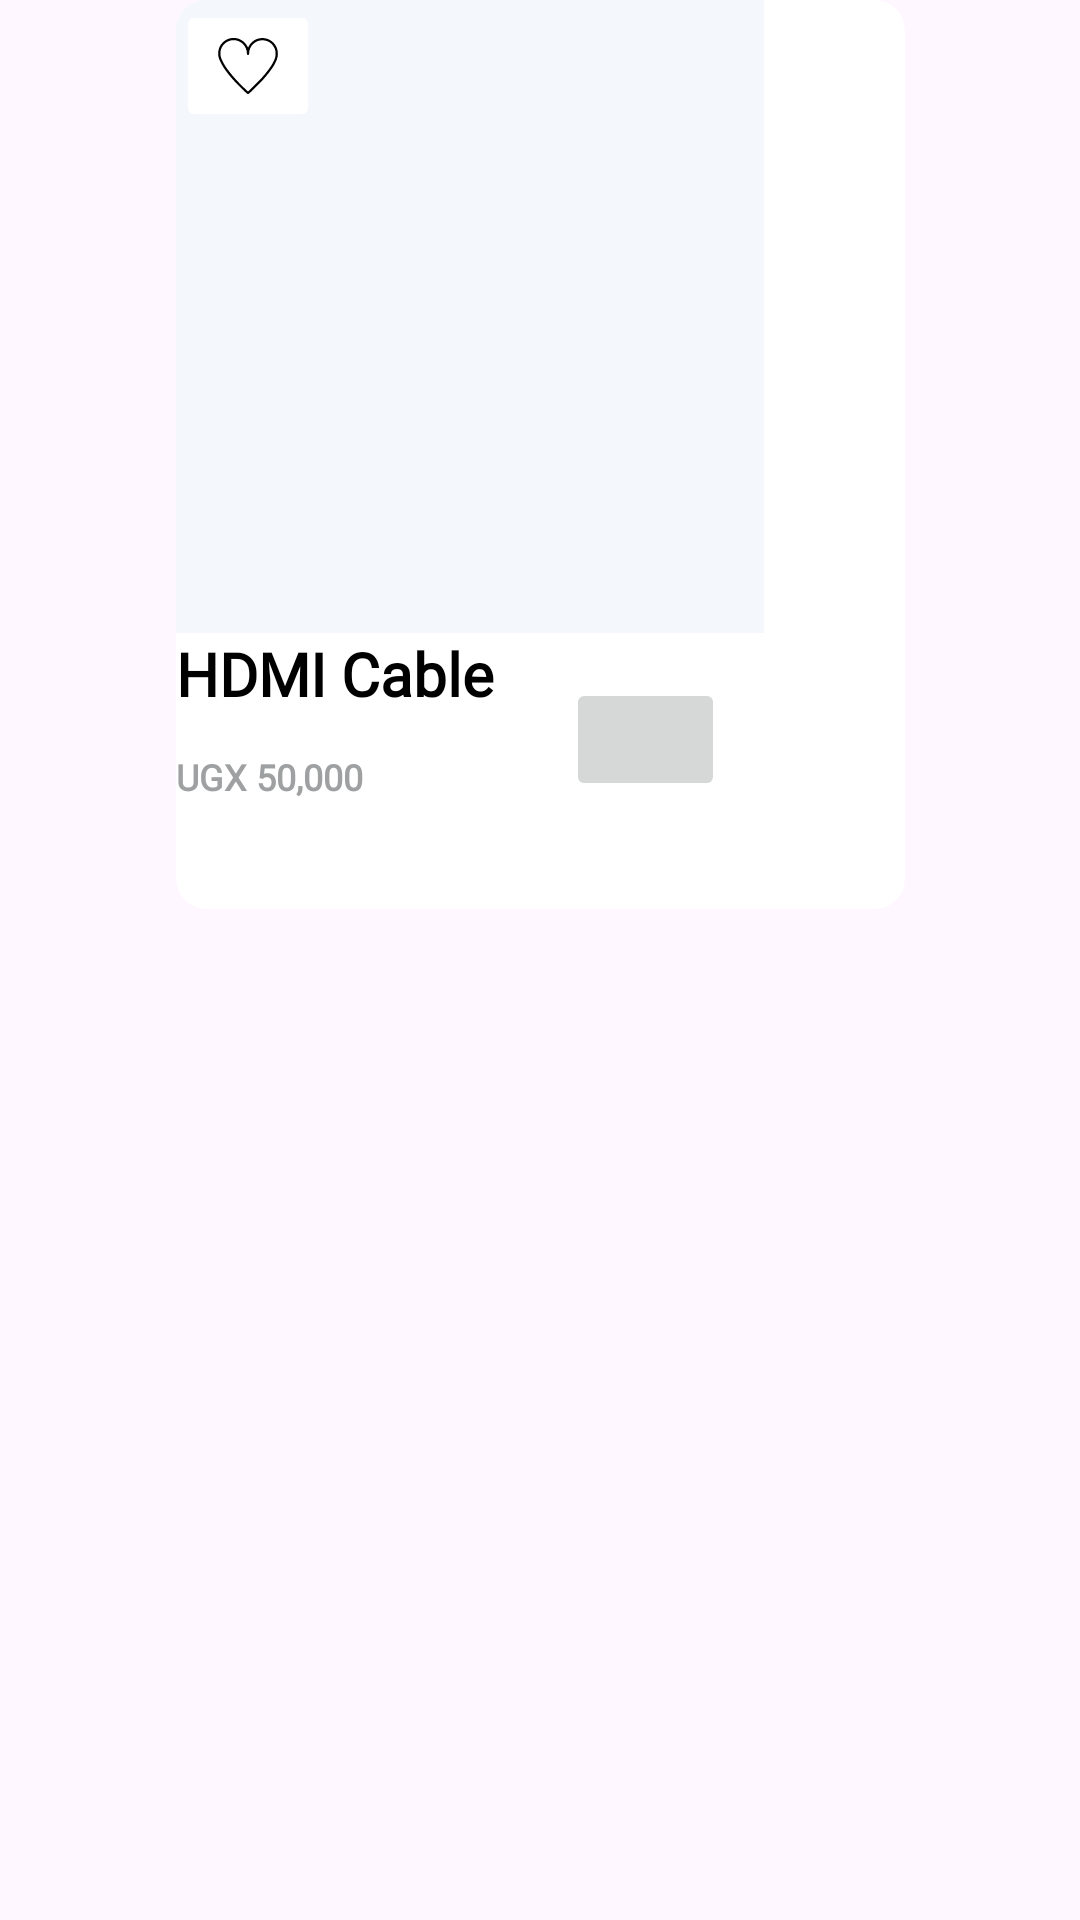

Where to tap for icons on this 1080×1920 app screen, as (x=x, y=y):
unfilled: (x=242, y=57)
